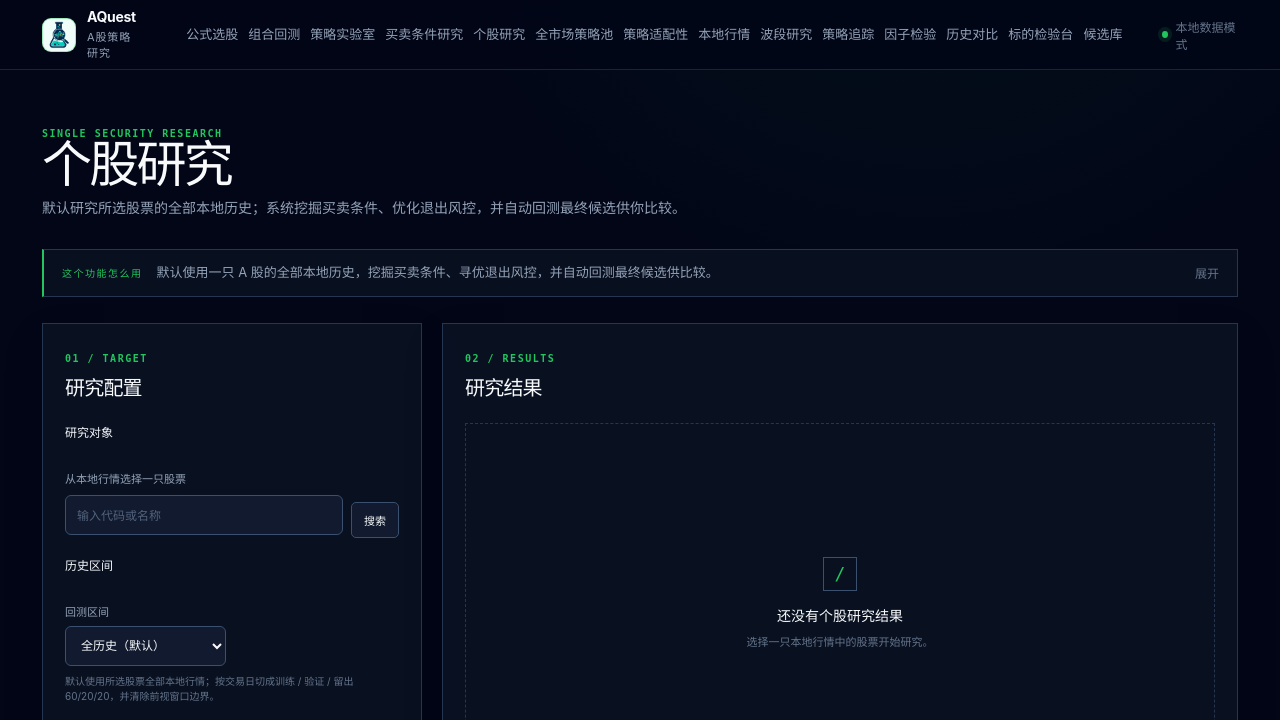
Test: IndividualResearchPage › shows localized indicator and signal names in discovered buy and sell rules
The width and height of the screenshot is (1280, 720).
Click the button with test id "individual-stock-search-button": (375, 520) [351,502,399,538]
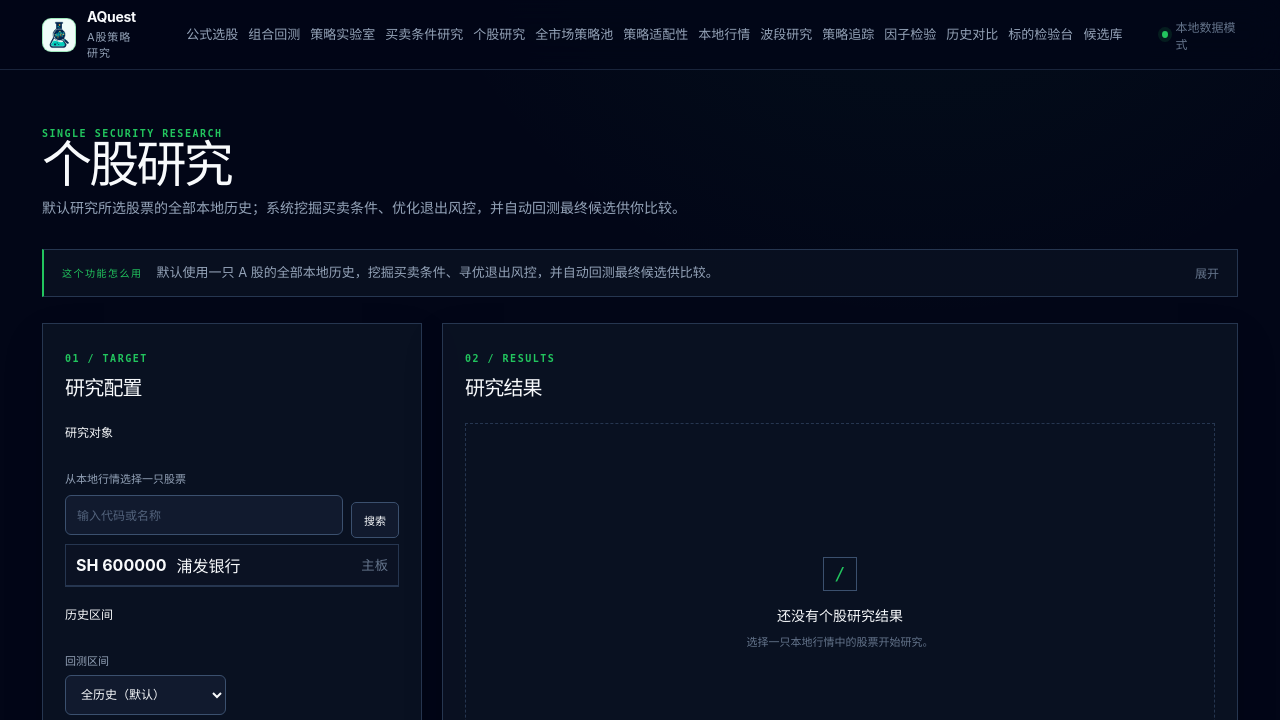
Click the button with class "individual-instrument-option": (232, 565) [66,544,398,586]
(page scrolled)
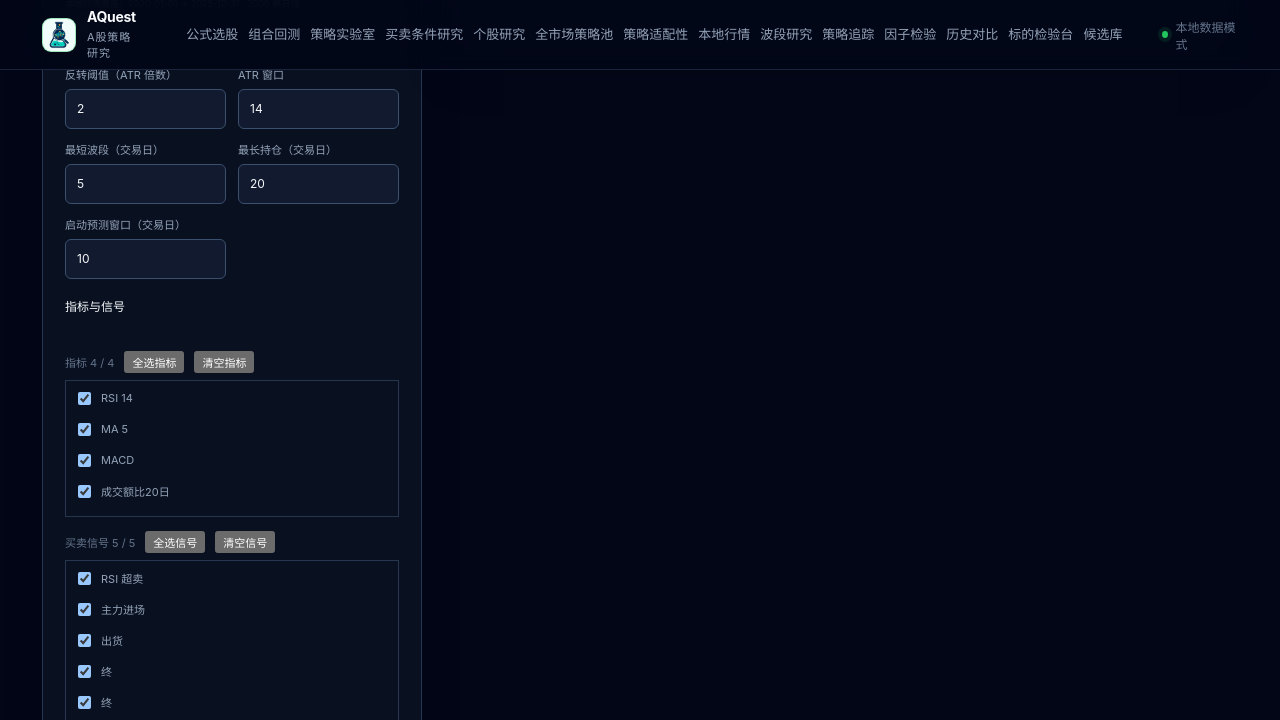
Submit the form with test id "individual-research-form"
(page scrolled)
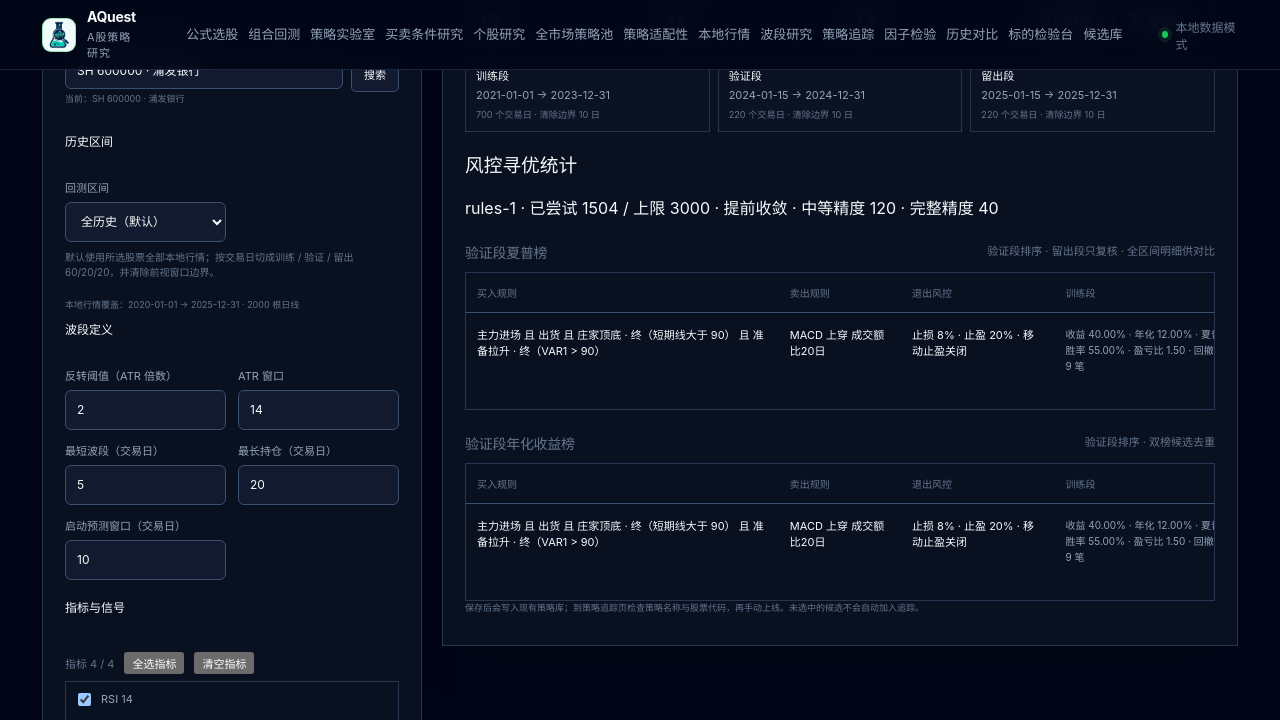
Now the row with test id "individual-sharpe-0" shows "主力进场 且 出货", box [477,328,764,358]
Now the row with test id "individual-sharpe-0" shows "庄家顶底 · 终（短期线大于 90）", box [477,328,764,358]
Now the row with test id "individual-sharpe-0" shows "准备拉升 · 终（VAR1 > 90）", box [477,328,764,358]
